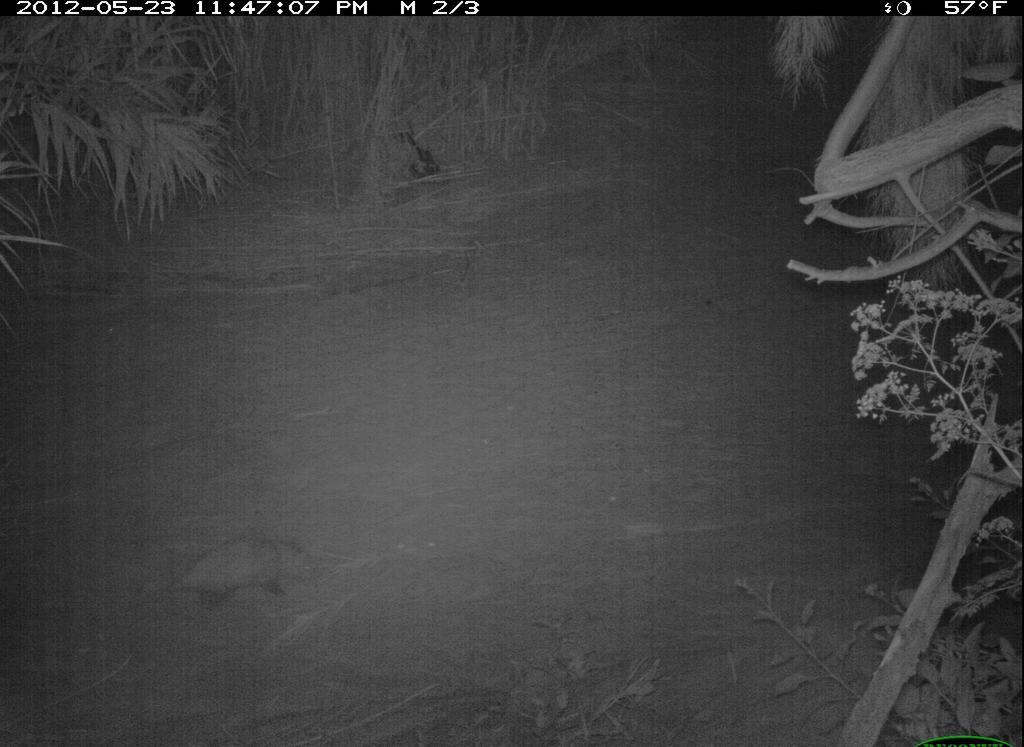opossum: (127, 534, 346, 614)
